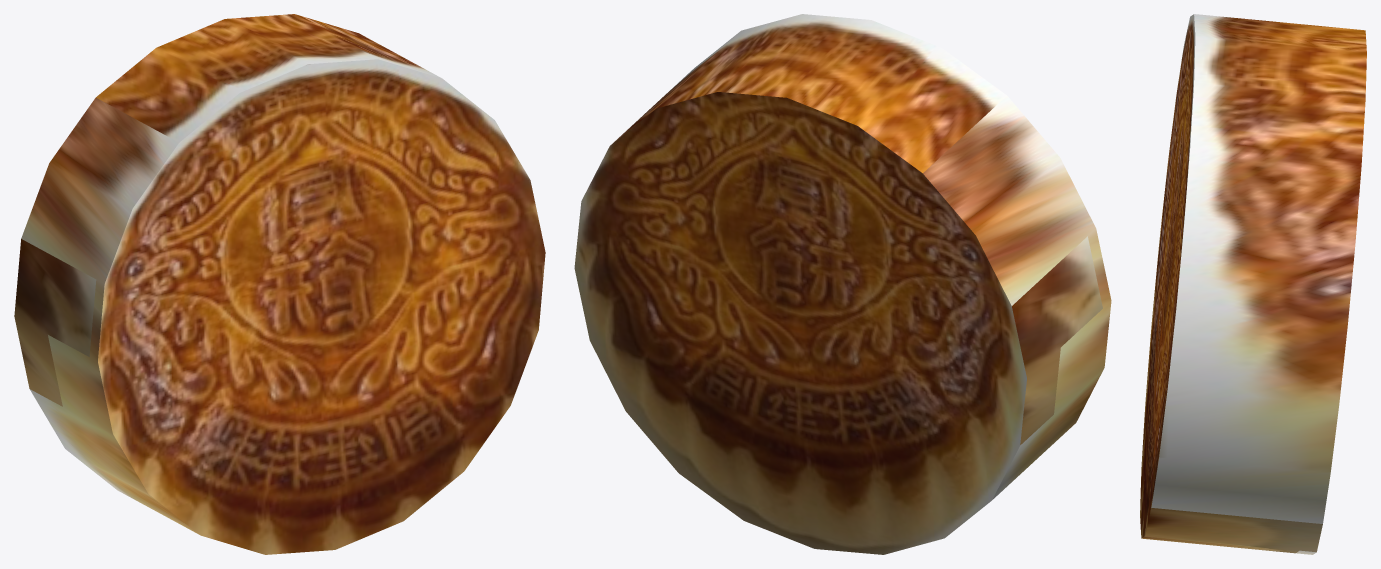
Rendered from geppei.fbx.
3 views of the same model, side by side, from view 1: azimuth 30°, elevation 25°; view 2: azimuth 150°, elevation 25°; view 3: azimuth 270°, elevation 25° (orthographic). The views are drawn at different scales.
Visible parts, largest first — view 1: pCylinder1; view 2: pCylinder1; view 3: pCylinder1.
Boxes of the visible parts, <box> form: pCylinder1: <box>14,14,545,554</box>; pCylinder1: <box>574,14,1111,554</box>; pCylinder1: <box>1140,14,1366,554</box>.
Bounding box in the file's own units: 2.52 × 2.59 × 1.08.
Materials: 1 (1 with a texture image).
